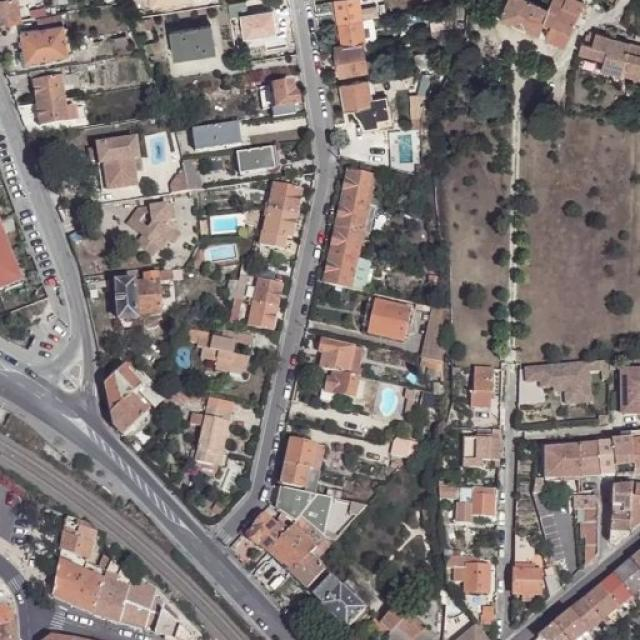immeuble: (51, 508, 176, 634), (554, 556, 638, 640), (254, 503, 334, 591), (549, 485, 640, 539), (328, 158, 364, 293), (524, 445, 640, 486), (102, 359, 155, 441), (104, 265, 185, 318), (492, 0, 582, 46), (185, 326, 258, 376), (99, 135, 152, 196), (255, 182, 302, 250), (312, 561, 363, 618), (319, 62, 377, 111), (580, 35, 640, 80), (312, 0, 368, 48), (226, 9, 291, 46), (326, 40, 375, 78), (178, 128, 248, 148), (237, 150, 280, 171)
maison: (179, 384, 244, 487), (527, 355, 610, 423), (215, 270, 292, 334), (20, 71, 89, 132), (432, 558, 500, 619), (455, 362, 506, 432), (7, 20, 77, 69), (448, 481, 506, 526), (316, 341, 361, 398), (158, 21, 218, 62), (278, 434, 322, 486), (254, 72, 307, 111), (458, 431, 505, 470), (368, 295, 413, 333), (509, 562, 545, 600)
piscine: (388, 134, 422, 166), (200, 211, 243, 235), (375, 382, 399, 422), (142, 132, 176, 160), (170, 340, 197, 373), (198, 242, 242, 262), (402, 368, 419, 388)
